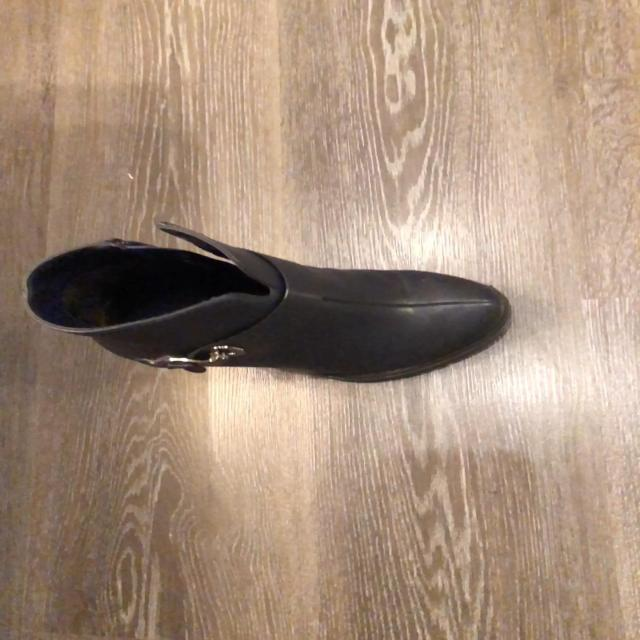shoe: (23, 222, 515, 386)
